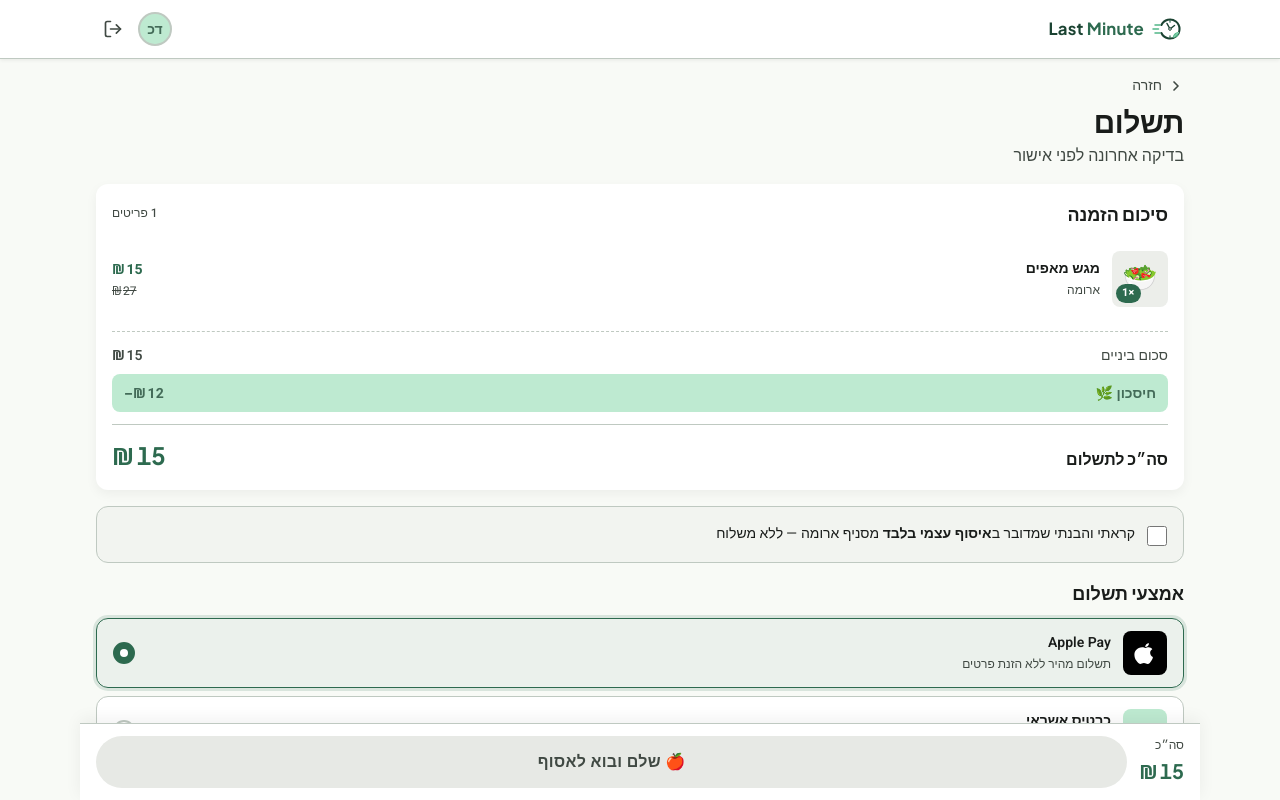
Test: Checkout flow › blocks payment until the self-pickup checkbox is checked
Expected: the text "מגש מאפים" is shown, [1026,258,1100,279]
Expected: the button "🍎 שלם ובוא לאסוף" is disabled, [96,736,1127,788]
Click the checkbox.
click(1157, 536)  # box [1147,526,1167,546]
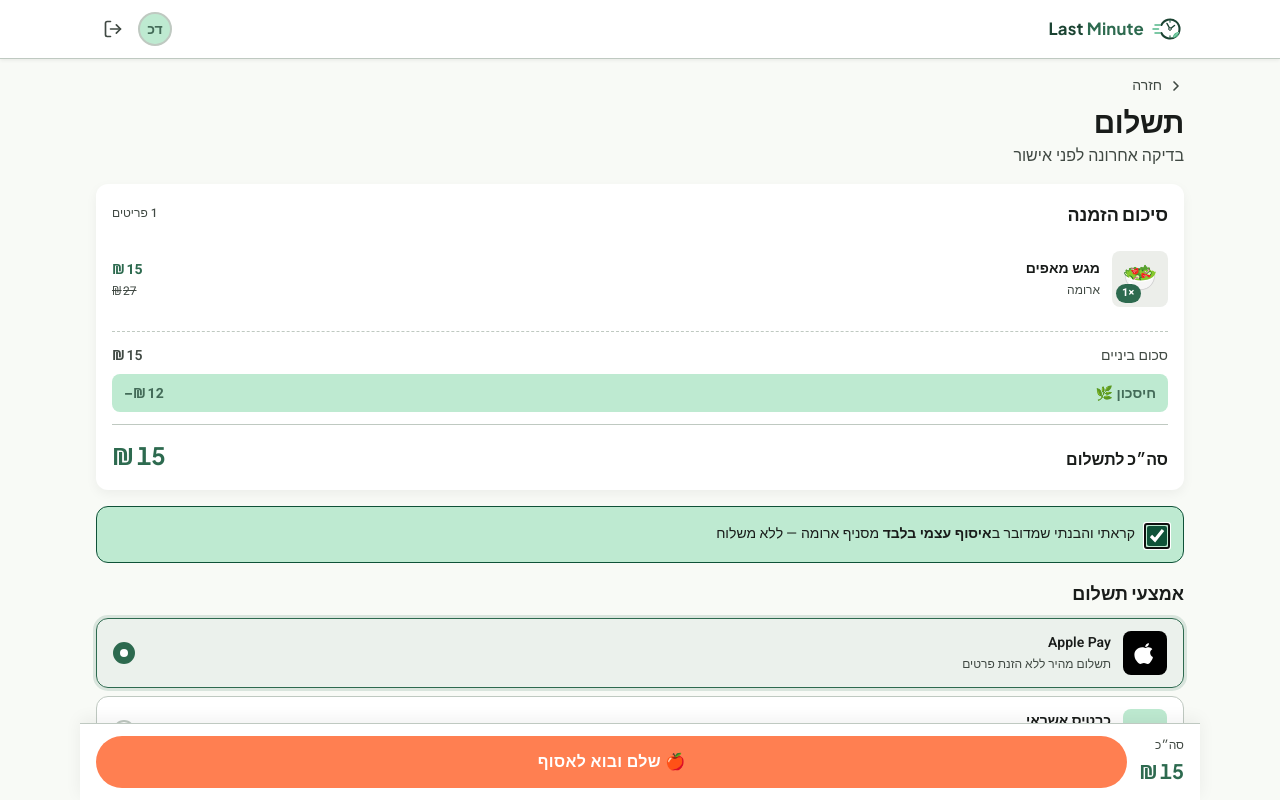
Expected: the button "🍎 שלם ובוא לאסוף" is enabled, [96,736,1127,788]
